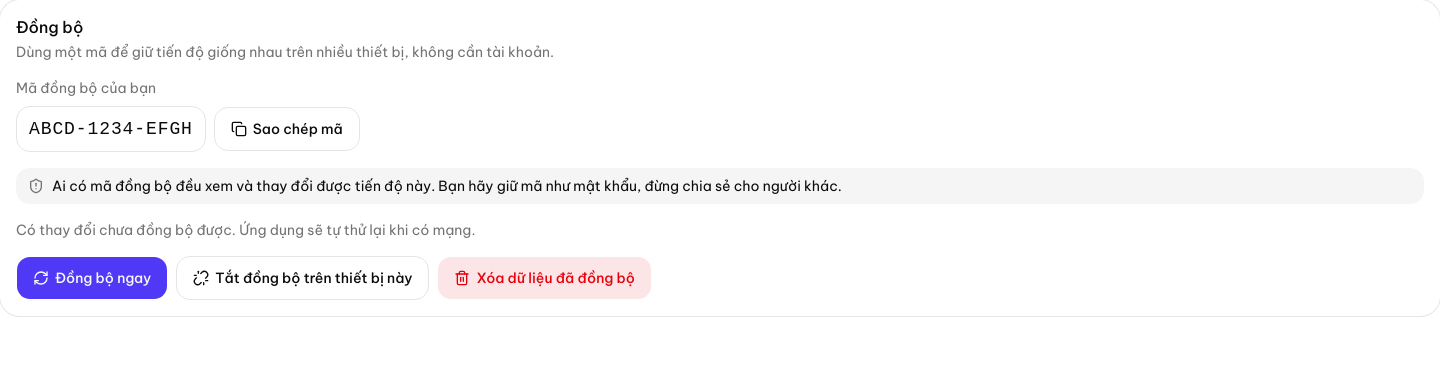
it: SyncPanel › on: tells the learner when changes are waiting, and offline errors in Vietnamese
The image size is (1440, 388).
Expected: the text "Có thay đổi chưa đồng bộ được" is shown, [16, 221, 475, 239]
Click the button "Đồng bộ ngay". click: (92, 278)
box: [16, 256, 168, 300]
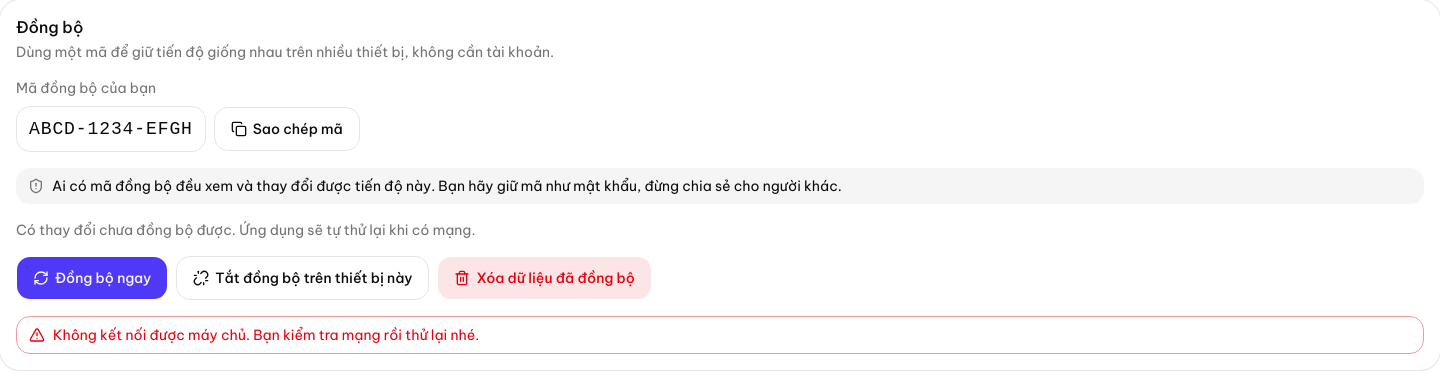
Expected: the message shows "Không kết nối được máy chủ", [53, 326, 479, 344]
